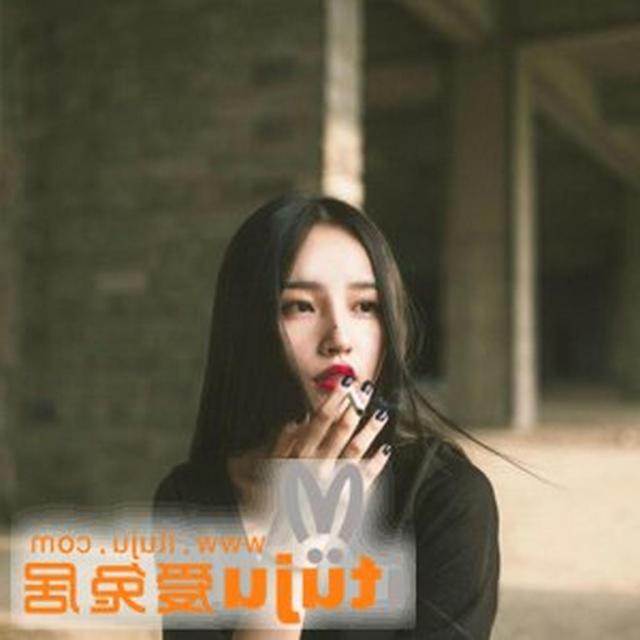smoking: (252, 189, 425, 479)
